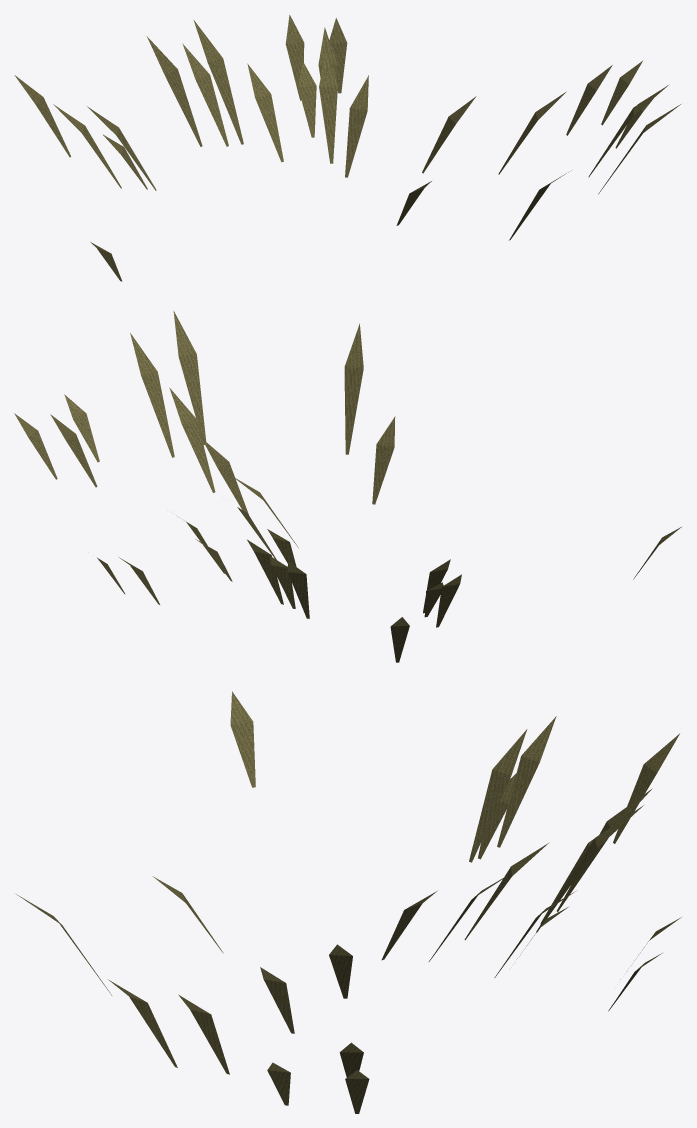
File: env_ground_04_grass_trampled.glb
The picture shows the model from 3 angles, top to bottom: view 1: azimuth 30°, elevation 25°; view 2: azimuth 150°, elevation 25°; view 3: azimuth 270°, elevation 25°; orthographic projection. The views are drawn at different scales.
Visible parts, largest first — view 1: foliage; view 2: foliage; view 3: foliage.
Boxes of the visible parts, bbox=[...] form: foliage: bbox=[14, 15, 680, 281]; foliage: bbox=[14, 311, 681, 662]; foliage: bbox=[16, 691, 681, 1113].
Bounding box in the file's own units: 0.8045 × 0.1241 × 0.6025.
Materials: 1 (1 with a texture image).
